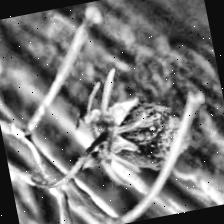Gray Mold: (62, 57, 199, 196)
